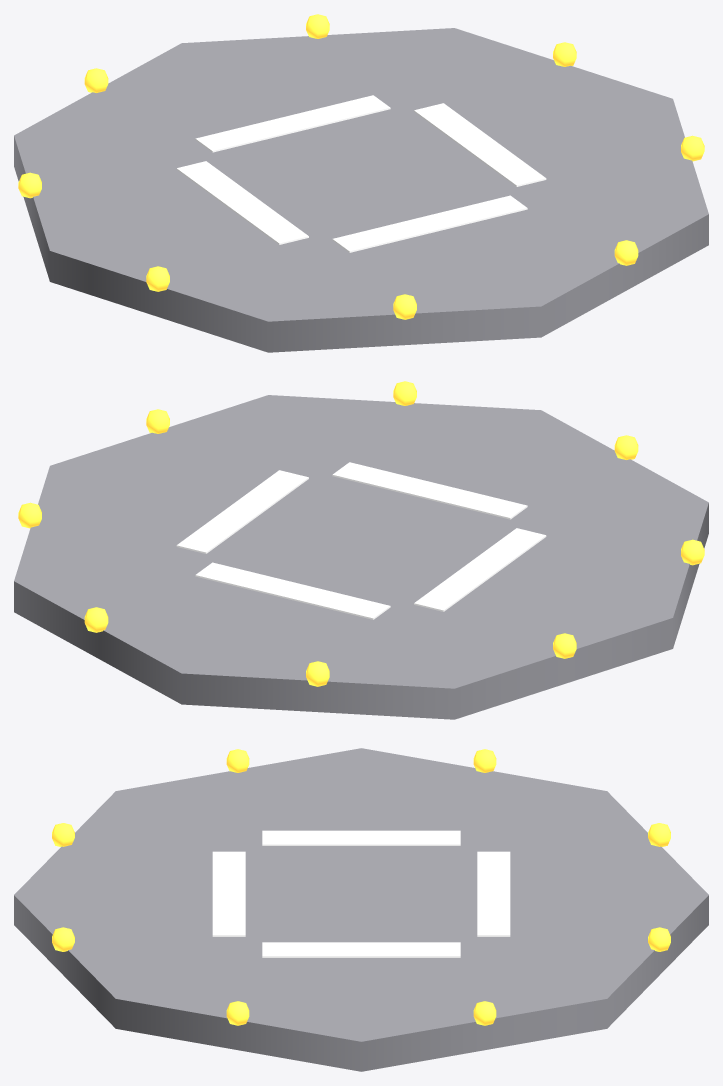
File: pad.glb
3 renders of one model, top to bottom at view 1: azimuth 30°, elevation 25°; view 2: azimuth 150°, elevation 25°; view 3: azimuth 270°, elevation 25°, orthographic. The views are drawn at different scales.
Visible parts, largest first — view 1: pad; view 2: pad; view 3: pad.
Boxes of the visible parts, x1,y1,x2,y2 form: pad: (14,14,708,352); pad: (14,381,708,719); pad: (14,748,708,1071).
Bounding box in the file's own units: 8.4 × 0.66 × 8.4.
